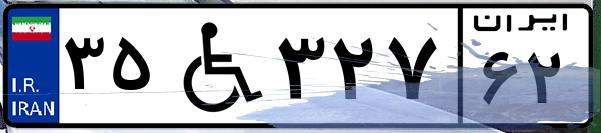2: (330, 28, 385, 110), (525, 38, 570, 115)
3: (270, 28, 330, 110), (57, 26, 110, 100)
5: (110, 28, 158, 98)
6: (475, 38, 525, 113)
7: (385, 28, 445, 110)
ژ (معلولین و جانبازان): (158, 12, 270, 120)
